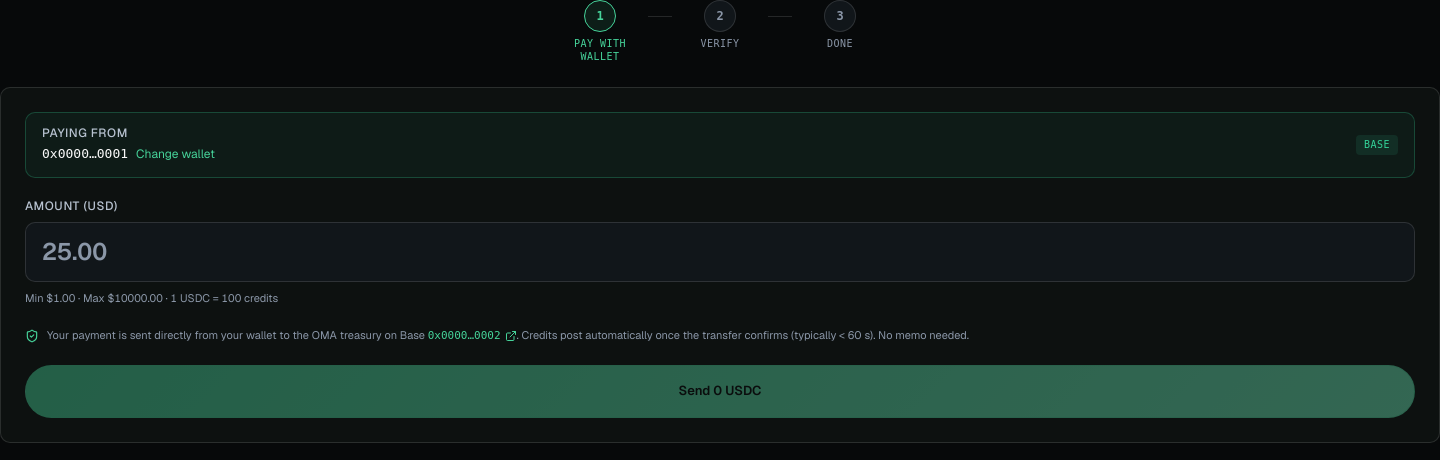
Test case: USDC broadcast recovery › does not broadcast funds when the account-bound challenge cannot be issued
Expected: the button "Send 0 USDC" is disabled, [25,365,1415,418]
In the field labelled "Amount (USD)": (720, 252) [25,222,1415,282], type "10"
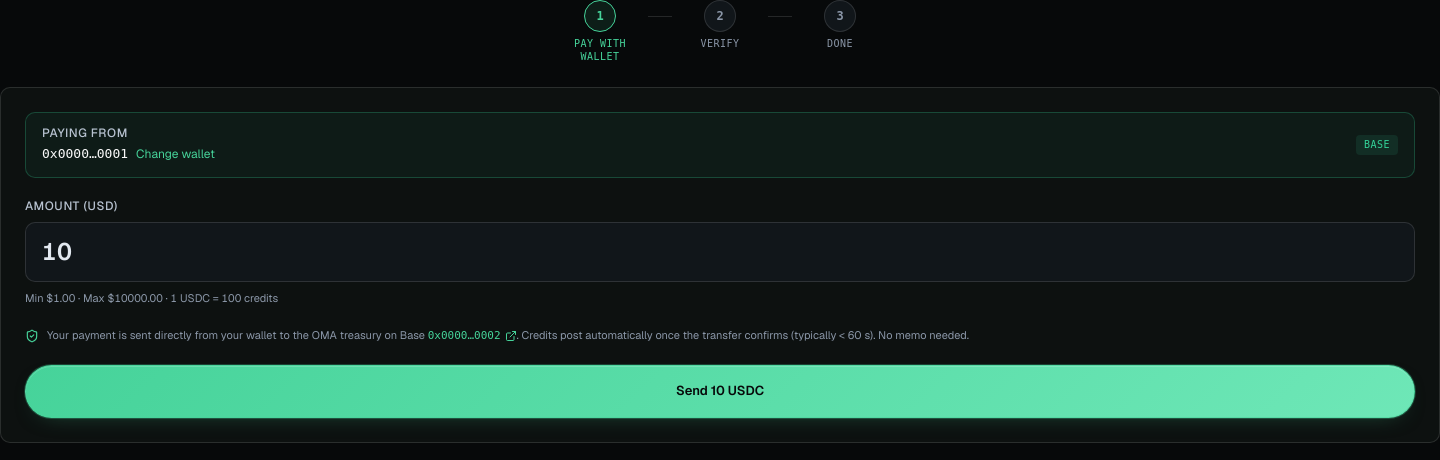
Expected: the button "Send 10 USDC" is enabled
Click the button "Send 10 USDC": (720, 391) [25,365,1415,418]
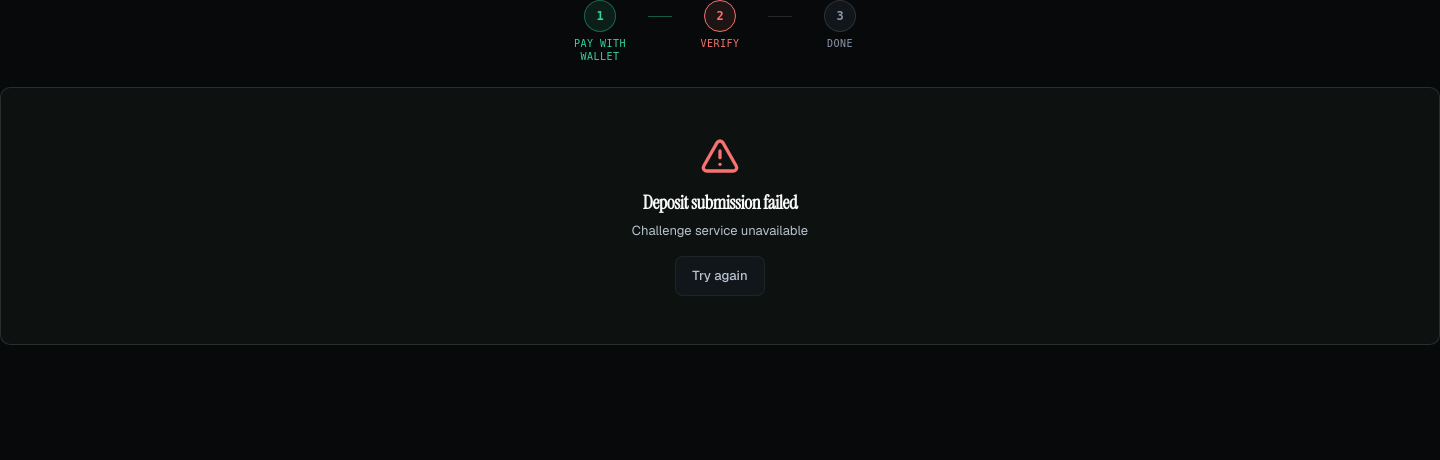
Expected: the text "Challenge service unavailable" is shown, [632,222,808,238]
